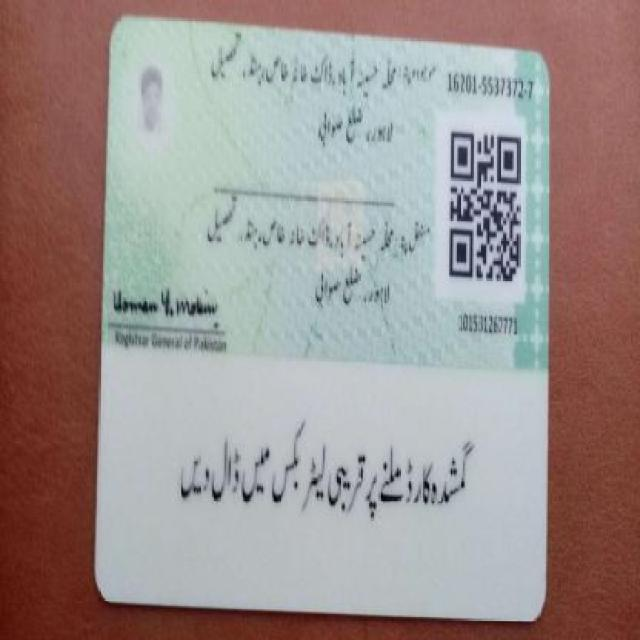Back: (90, 11, 548, 626)
